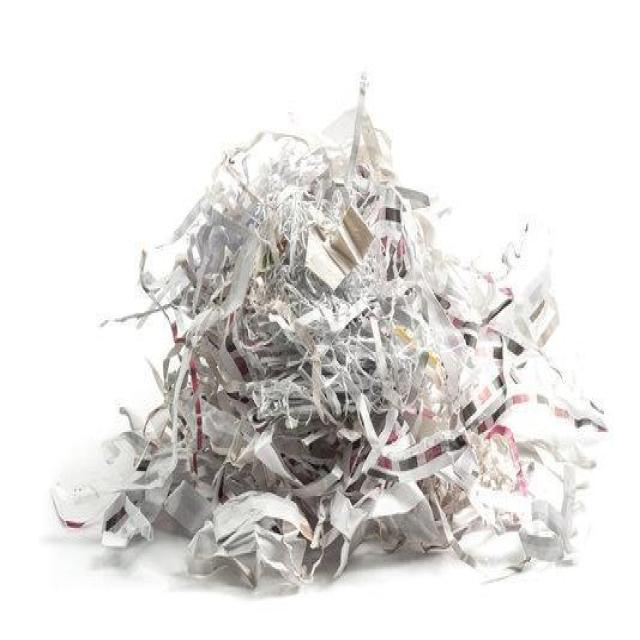cardboard paper: (52, 80, 603, 585)
